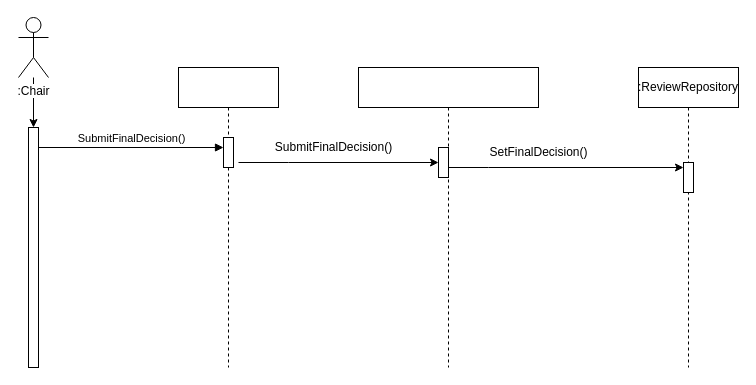
This 756x385 diagram has some shape labels left out. The shapes that lost their labels are listed below. From the top down, each one's box as (x1, y1, x2, y2) in pixels, then its label:
(178, 66, 278, 368): :UI
(358, 66, 538, 368): :ProgramComitteeController
